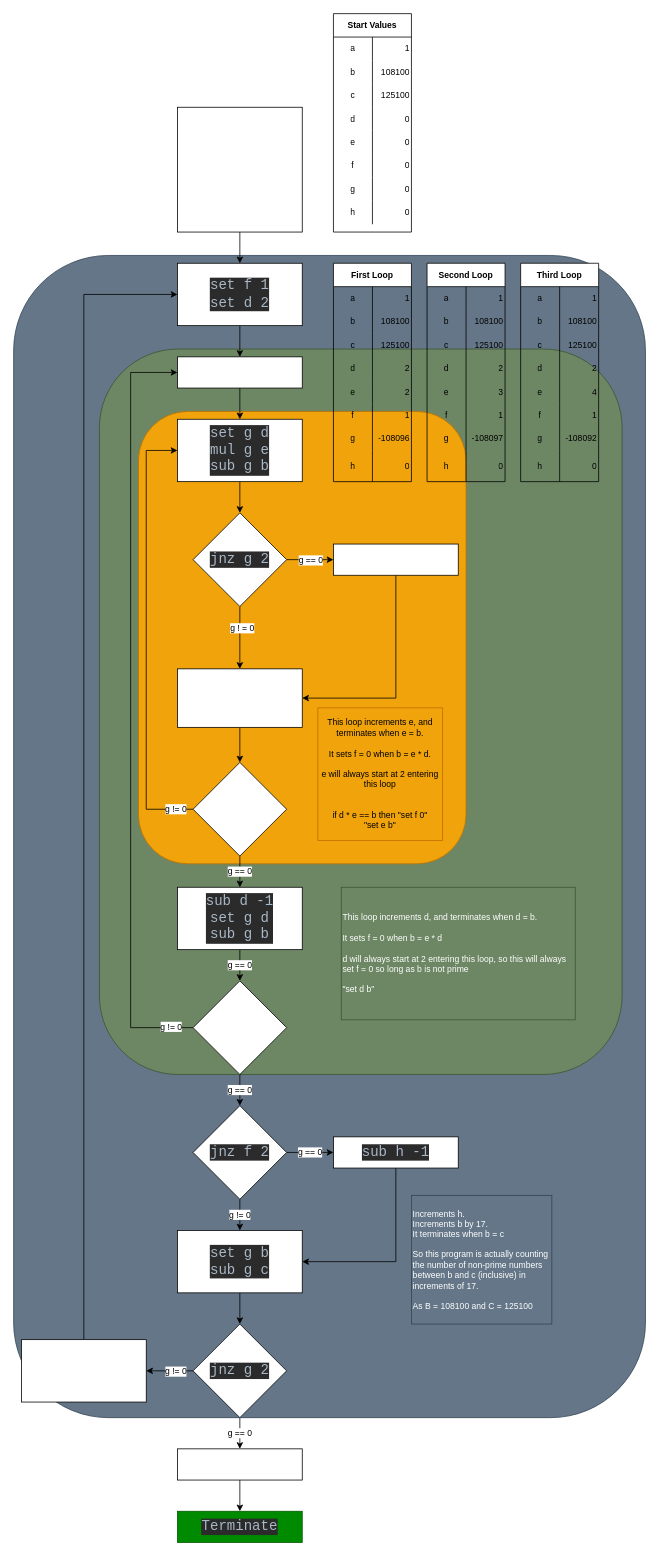
The diagram is 659 pixels wide and 1563 high, and some of its shapes have lost their labels. Here are the shapes that lost their labels. From the top down, the centre of each, then its label:
pixel 239 169: set b 81 set c b jnz a 2 mul b 100 sub b -100000 set c b sub c -17000
pixel 239 372: set e 2
pixel 395 559: set f 0
pixel 239 697: sub e -1 set g e sub g b
pixel 239 809: jnz g -8
pixel 239 1027: jnz g -13
pixel 83 1370: sub b -17 jnz 1 -23
pixel 239 1464: jnz 1 3
